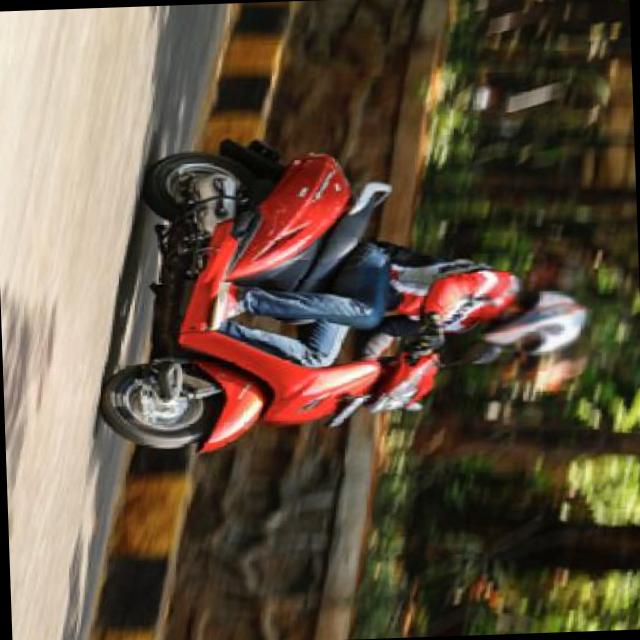With Helmet: (479, 277, 592, 373)
